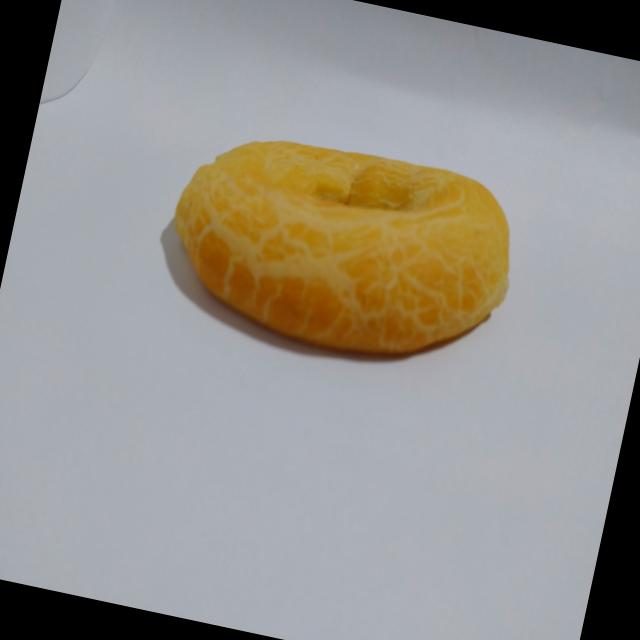Chipa: (144, 101, 539, 400)
